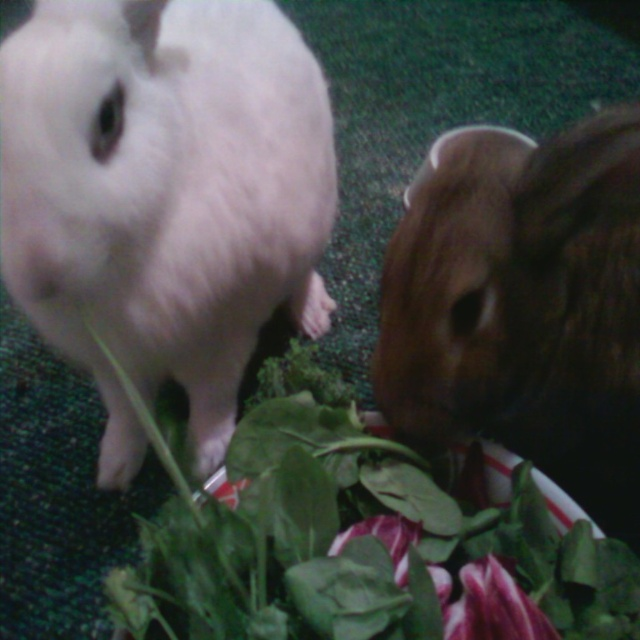Rabbit: (0, 0, 337, 496), (371, 101, 640, 514)
